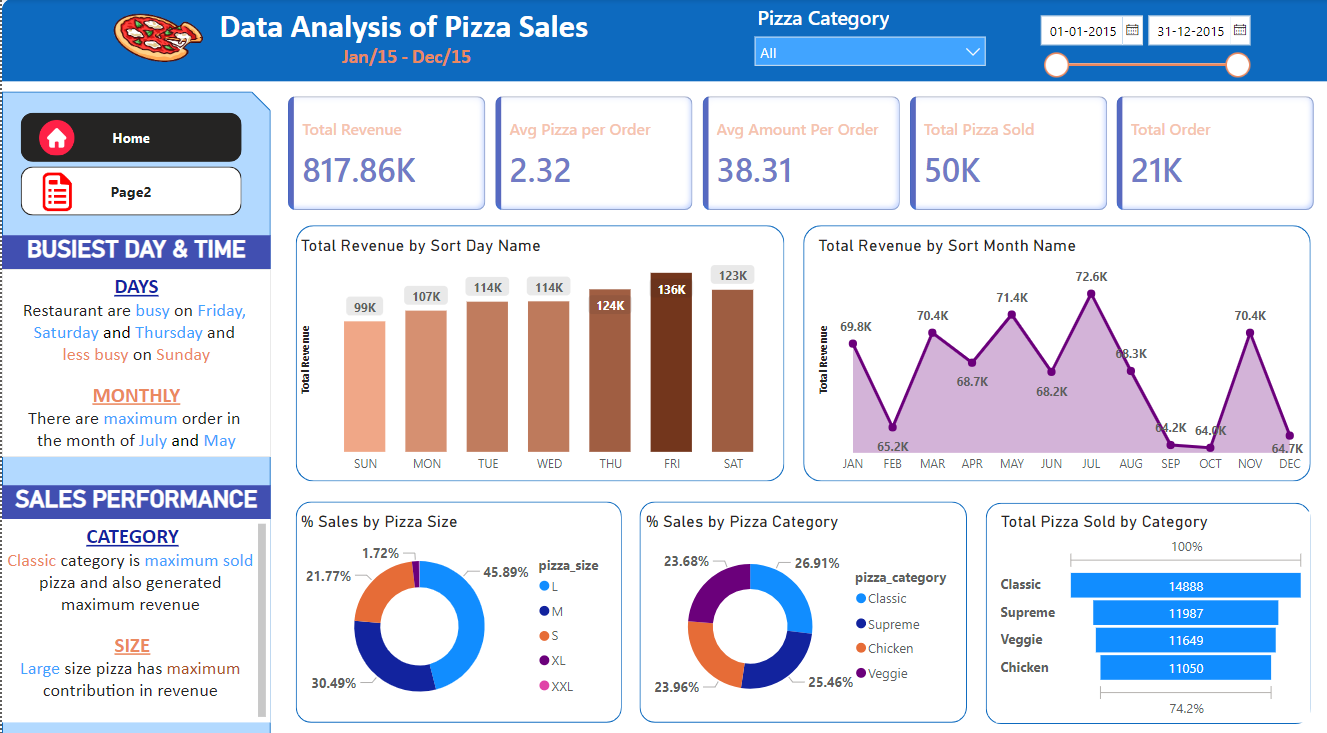

The dashboard page shown, as its layout file describes it:
{"tool":"powerbi","page":{"name":"Home","canvas":[1350,750],"ordinal":0},"visuals":[{"type":"shape","box":[0,94.2,273.8,655.8],"z":0},{"type":"shape","box":[0,0,1470.5,84.1],"z":1000},{"type":"cardVisual","fields":{"Data":["pizza_sales.Total Revenue","pizza_sales.Avg Pizza per Order","pizza_sales.Avg Amount Per Order","pizza_sales.Total Pizza Sold","pizza_sales.Total Order"]},"box":[286.5,94.2,1055.6,126.1],"z":2000},{"type":"textbox","title":"Data Analysis of Pizza Sales","box":[216.5,6.4,404.9,49.7],"z":3000},{"type":"textbox","title":"Jan/15 - Dec/15","box":[341.3,45.8,154.1,28],"z":4000},{"type":"image","box":[101.9,0,114.6,78.9],"z":5000},{"type":"shape","box":[299.2,230.5,497.9,261],"z":6000},{"type":"columnChart","fields":{"Y":["pizza_sales.Total Revenue"],"Category":["pizza_sales.Sort Day Name"]},"box":[299.2,240.7,497.9,250.8],"z":7000},{"type":"shape","box":[816.2,230.5,517,261],"z":8000},{"type":"shape","box":[299.2,511.9,332.3,225.4],"z":9000},{"type":"shape","box":[649.4,511.9,333.6,225.4],"z":10000},{"type":"shape","box":[1002.1,513.2,331.1,225.4],"z":11000},{"type":"areaChart","fields":{"Y":["pizza_sales.Total Revenue"],"Category":["pizza_sales.Sort Month Name"]},"box":[826.4,240.7,506.8,250.8],"z":12000},{"type":"donutChart","title":"% Sales by Pizza Size","fields":{"Y":["pizza_sales.Total Revenue"],"Category":["pizza_sales.pizza_size"]},"box":[299.2,522.1,332.3,215.2],"z":13000},{"type":"donutChart","title":"% Sales by Pizza Category","fields":{"Category":["pizza_sales.pizza_category"],"Y":["pizza_sales.Total Revenue"]},"box":[650.7,522.1,332.3,215.2],"z":14000},{"type":"funnel","title":"Total Pizza Sold by Category","fields":{"Category":["pizza_sales.pizza_category"],"Y":["Sum(pizza_sales.quantity)"]},"box":[1012.3,522.1,320.9,215.2],"z":15000},{"type":"textbox","title":"BUSIEST DAY & TIME","box":[0,240.7,273.8,34.4],"z":16000},{"type":"textbox","box":[0,275,273.8,191],"z":17000},{"type":"textbox","title":"SALES PERFORMANCE","box":[0,495.3,273.8,34.4],"z":18000},{"type":"textbox","box":[0,529.7,273.8,207.6],"z":19000},{"type":"slicer","fields":{"Values":["pizza_sales.pizza_category"]},"box":[756.4,0,255.9,84],"z":20000},{"type":"slicer","fields":{"Values":["pizza_sales.order_date"]},"box":[1045.4,6.4,234.3,77.7],"z":21000},{"type":"pageNavigator","box":[19.5,115.6,226,50.6],"z":22000},{"type":"pageNavigator","box":[19.5,170.1,226,50.6],"z":23000},{"type":"image","box":[31.2,118.2,50.6,45.5],"z":24000},{"type":"image","box":[32.5,167.5,49.4,57.1],"z":25001}]}

Visuals, with their boxes in screenshot pixels (x1, y1, x2, y2), scaled from the page's 1350x750 canvas onto the 1327x733 screenshot:
shape: (0, 92, 269, 732)
shape: (0, 0, 1326, 82)
cardVisual - pizza_sales.Total Revenue x pizza_sales.Avg Pizza per Order: (282, 92, 1319, 215)
"Data Analysis of Pizza Sales" textbox: (213, 6, 611, 55)
"Jan/15 - Dec/15" textbox: (335, 45, 487, 72)
image: (100, 0, 213, 77)
shape: (294, 225, 784, 480)
columnChart - pizza_sales.Total Revenue x pizza_sales.Sort Day Name: (294, 235, 784, 480)
shape: (802, 225, 1310, 480)
shape: (294, 500, 621, 721)
shape: (638, 500, 966, 721)
shape: (985, 502, 1310, 722)
areaChart - pizza_sales.Total Revenue x pizza_sales.Sort Month Name: (812, 235, 1310, 480)
"% Sales by Pizza Size" donutChart: (294, 510, 621, 721)
"% Sales by Pizza Category" donutChart: (640, 510, 966, 721)
"Total Pizza Sold by Category" funnel: (995, 510, 1310, 721)
"BUSIEST DAY & TIME" textbox: (0, 235, 269, 269)
textbox: (0, 269, 269, 455)
"SALES PERFORMANCE" textbox: (0, 484, 269, 518)
textbox: (0, 518, 269, 721)
slicer - pizza_sales.pizza_category: (744, 0, 995, 82)
slicer - pizza_sales.order_date: (1028, 6, 1258, 82)
pageNavigator: (19, 113, 241, 162)
pageNavigator: (19, 166, 241, 216)
image: (31, 116, 80, 160)
image: (32, 164, 81, 220)
